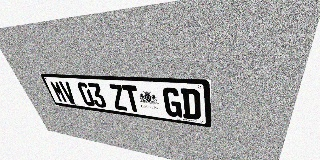0: (76, 82, 96, 107)
3: (87, 83, 107, 108)
D: (180, 88, 201, 120)
G: (162, 87, 182, 118)
M: (49, 80, 68, 103)
T: (121, 85, 142, 113)
V: (58, 81, 78, 104)
Z: (108, 84, 128, 111)
